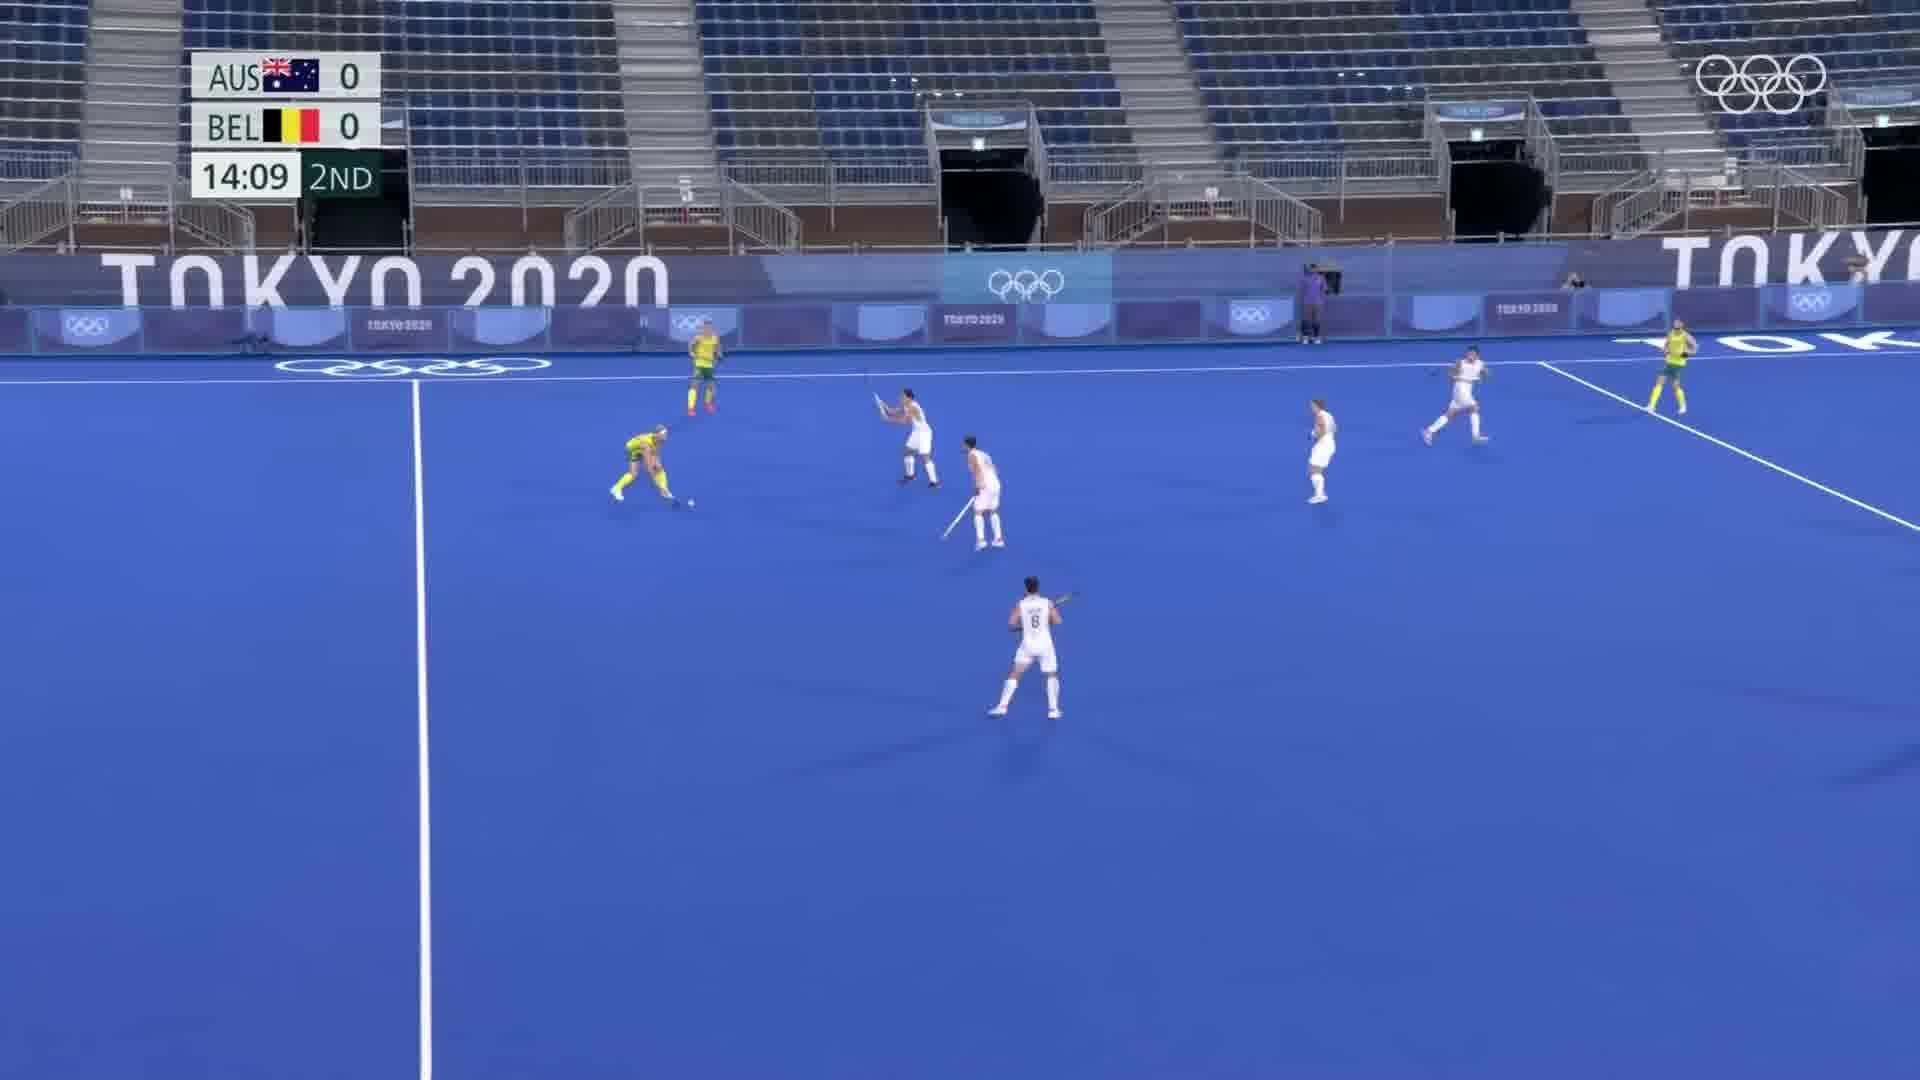ball: (684, 495, 702, 509)
